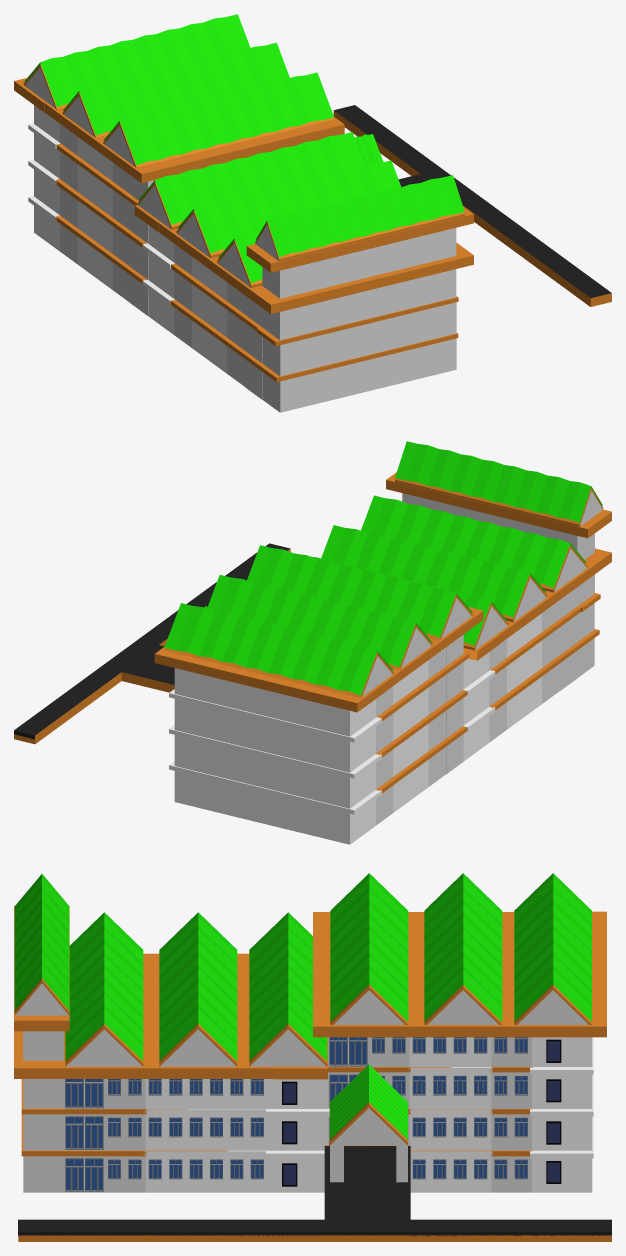
The model's file is Centralblock.glb.
3 renders of one model, top to bottom at view 1: azimuth 30°, elevation 25°; view 2: azimuth 150°, elevation 25°; view 3: azimuth 270°, elevation 25°, orthographic. The views are drawn at different scales.
Visible parts, largest first — view 1: Cube.157, Cube.156, Cube.161, Cube.158, Cube.155, Cube.159, Cube.148, Cube.153, Cube.150, Cube.152, Cube.043, Cube.166 (+24 smaller); view 2: Cube.155, Cube.160, Cube.157, Cube.161, Cube.159, Cube.156, Cube.032, Cube.034, Cube.036, Cube.038, Cube.039, Cube.165 (+11 smaller); view 3: Cube.159, Cube.156, Cube.157, Cube.160, Cube.155, Cube.158, Cube.166, Cube.161, Cube.165, Cube.162, Cube.043, Cube.039 (+65 smaller).
Part boxes in pixels (x1,y1,x2,y2): Cube.157: (103, 72, 333, 167); Cube.156: (62, 42, 289, 137); Cube.161: (255, 175, 464, 261); Cube.158: (138, 132, 364, 229); Cube.155: (23, 14, 250, 109); Cube.159: (176, 160, 401, 258); Cube.148: (262, 269, 456, 340); Cube.153: (262, 228, 456, 298); Cube.150: (262, 346, 425, 412); Cube.152: (262, 309, 425, 376); Cube.043: (121, 117, 344, 183); Cube.166: (456, 182, 611, 301); Cube.155: (164, 603, 394, 697); Cube.160: (361, 495, 587, 592); Cube.157: (247, 545, 473, 639); Cube.161: (395, 441, 603, 526); Cube.159: (321, 525, 546, 622); Cube.156: (207, 575, 432, 669); Cube.032: (174, 771, 375, 844); Cube.034: (174, 735, 375, 808); Cube.036: (174, 699, 375, 772); Cube.038: (174, 668, 375, 736); Cube.039: (154, 647, 387, 712); Cube.165: (14, 653, 174, 739); Cube.159: (159, 912, 237, 1066); Cube.156: (424, 873, 502, 1024); Cube.157: (330, 873, 408, 1024); Cube.160: (65, 912, 143, 1066); Cube.155: (514, 873, 591, 1024); Cube.158: (249, 912, 327, 1066); Cube.166: (18, 1145, 367, 1236); Cube.161: (14, 874, 69, 1015); Cube.165: (367, 1145, 611, 1236); Cube.162: (330, 1064, 407, 1182); Cube.043: (313, 912, 359, 1037); Cube.039: (537, 911, 606, 1037).
Size of what is drawn, in the model's own units: 92.3 by 48.55 by 121.
